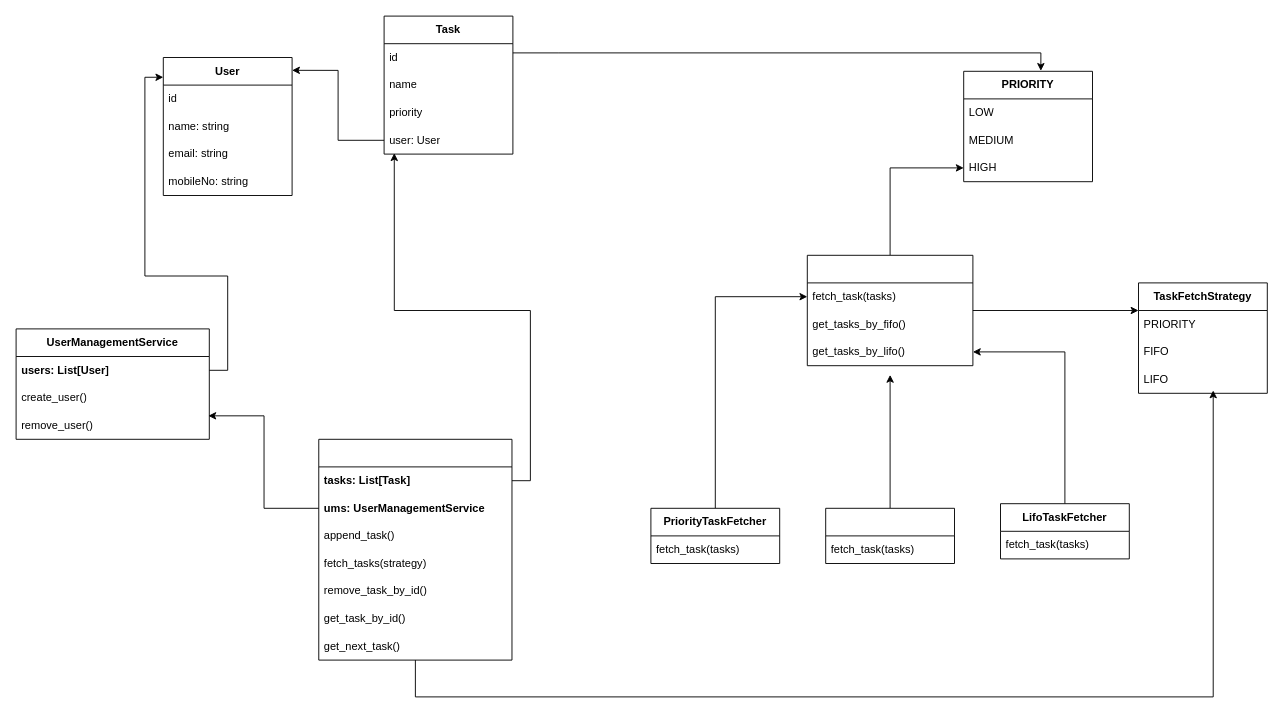
Image size: 1283x720. Some labels were removed from this diagram. The shapes that lost their labels are listed below. From the top down, each one's box as (x1, y1, x2, y2) in pixels, then its label:
(806, 254, 973, 366): TaskFetcher
(318, 438, 512, 660): TaskManagementService
(825, 507, 954, 564): FifoTaskFetcher
